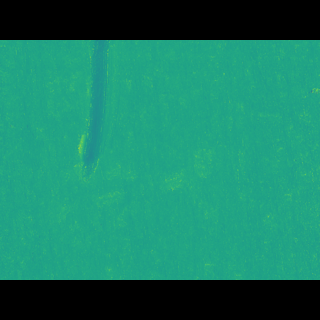Loch: (73, 69, 129, 182)
